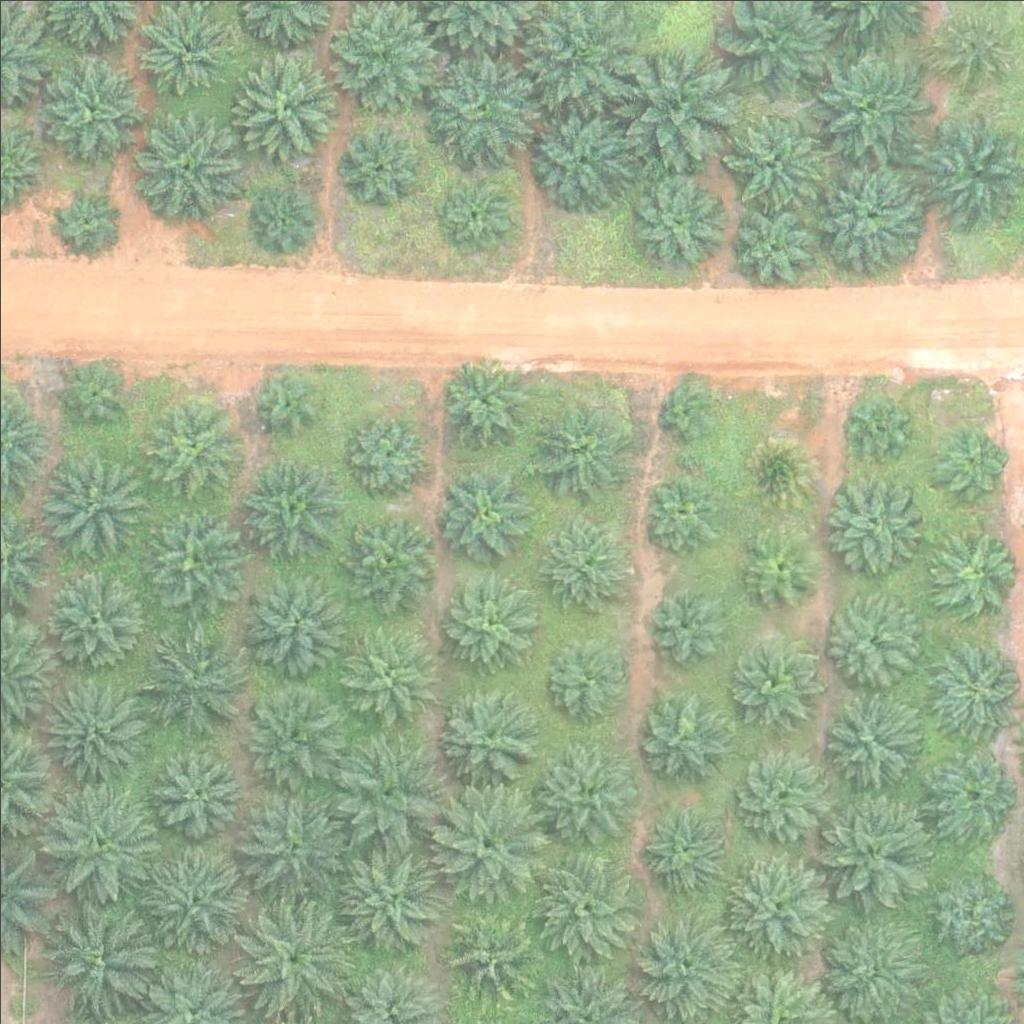Kelapa_Sawit: (807, 45, 932, 171), (615, 42, 740, 168), (236, 898, 349, 1011), (237, 793, 350, 906), (334, 844, 447, 957), (39, 897, 151, 1011), (42, 784, 154, 897), (138, 839, 250, 952), (329, 737, 441, 850), (431, 788, 543, 901), (532, 849, 644, 962), (810, 786, 922, 899), (429, 55, 541, 168), (43, 679, 143, 780), (42, 566, 142, 667), (42, 457, 142, 558), (143, 634, 243, 735), (141, 508, 241, 609), (141, 396, 241, 497), (235, 684, 335, 785), (241, 576, 341, 677), (240, 454, 340, 555), (334, 627, 434, 728), (335, 510, 435, 611), (436, 685, 536, 786), (437, 569, 537, 670), (533, 741, 633, 842), (636, 919, 736, 1020), (816, 922, 916, 1023), (822, 167, 922, 268), (234, 58, 334, 159), (132, 117, 232, 218), (41, 60, 141, 161), (434, 353, 534, 453), (528, 403, 628, 503), (726, 857, 826, 957), (728, 746, 828, 846), (818, 589, 918, 689), (822, 471, 922, 571), (723, 111, 823, 211), (533, 105, 633, 205), (445, 911, 533, 1000), (341, 409, 429, 497), (727, 638, 815, 726), (824, 698, 912, 786), (154, 745, 241, 833), (437, 469, 524, 557), (543, 638, 630, 726), (541, 526, 628, 614), (644, 808, 731, 896), (638, 689, 725, 777), (923, 867, 1010, 955), (922, 749, 1009, 837), (931, 643, 1018, 731), (925, 524, 1012, 612), (730, 202, 817, 290), (636, 176, 723, 264), (740, 525, 815, 601), (650, 586, 725, 662), (437, 171, 512, 247), (248, 362, 323, 438), (643, 477, 718, 553), (739, 436, 814, 512), (841, 387, 916, 463), (933, 9, 1008, 84), (340, 128, 415, 203), (52, 355, 127, 430), (931, 429, 1006, 504), (251, 186, 314, 249), (654, 377, 716, 440), (52, 188, 114, 251)
